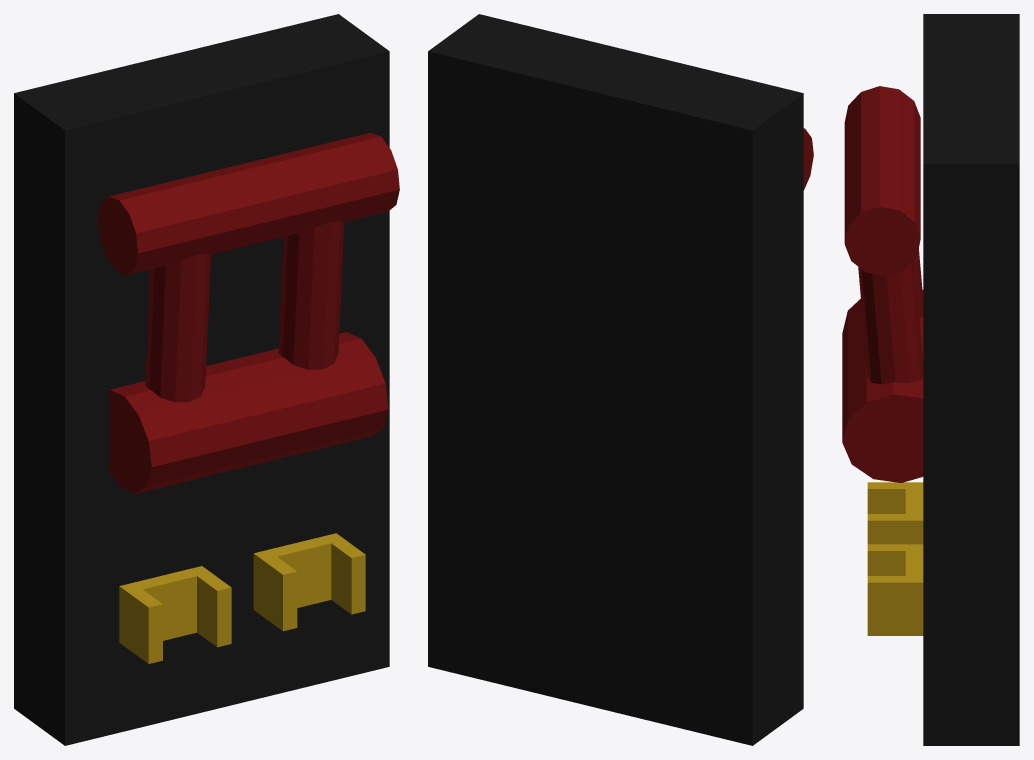
File: palanca_energia.fbx
3 views of the same model, side by side, from view 1: azimuth 30°, elevation 25°; view 2: azimuth 150°, elevation 25°; view 3: azimuth 270°, elevation 25° (orthographic). The views are drawn at different scales.
Visible parts, largest first — view 1: base, palanca; view 2: base; view 3: base, palanca.
Boxes of the visible parts, left/top/right/bottom form: base: left=14, top=14, right=389, bottom=745; palanca: left=97, top=132, right=399, bottom=493; base: left=428, top=14, right=803, bottom=745; base: left=867, top=14, right=1019, bottom=745; palanca: left=842, top=86, right=923, bottom=482.
Bounding box in the file's own units: 110 × 200 × 55.2.
